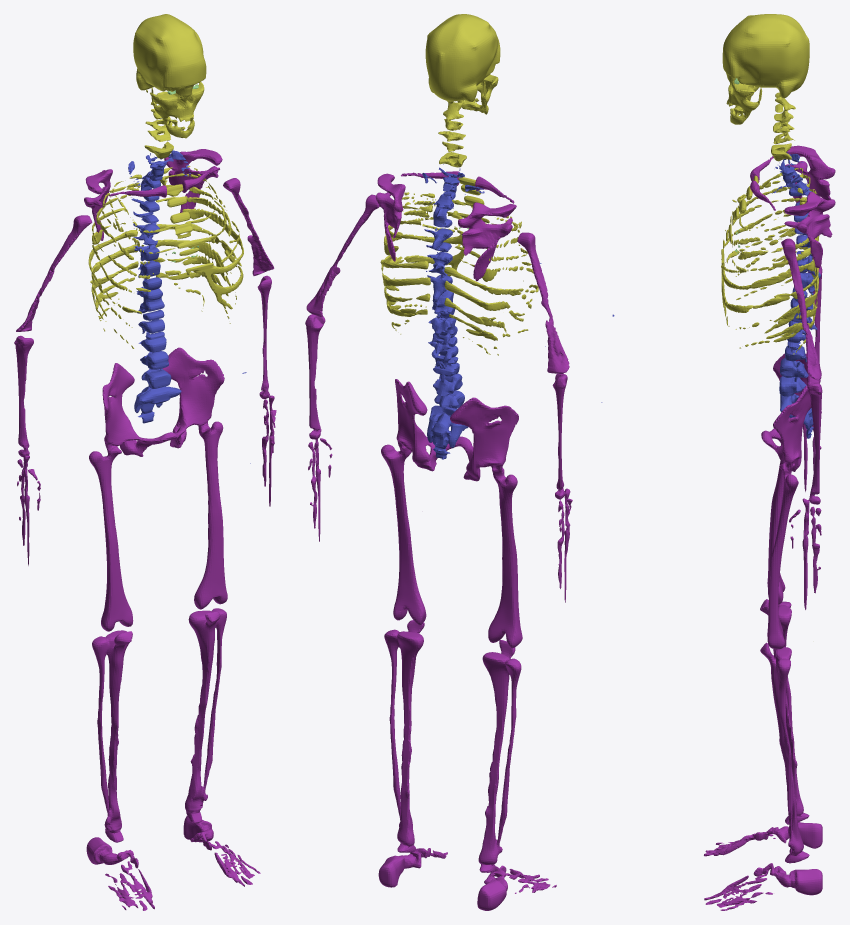
3 renders of one model, left to right at view 1: azimuth 30°, elevation 25°; view 2: azimuth 150°, elevation 25°; view 3: azimuth 270°, elevation 25°, orthographic.
Visible parts, largest first — view 1: world; view 2: world; view 3: world.
Part boxes in pixels (x1,y1,x2,y2): world: [14, 14, 276, 910]; world: [305, 14, 572, 910]; world: [601, 14, 835, 910].
Size of the model in its own units: 0.6256 by 1.99 by 0.4904.
